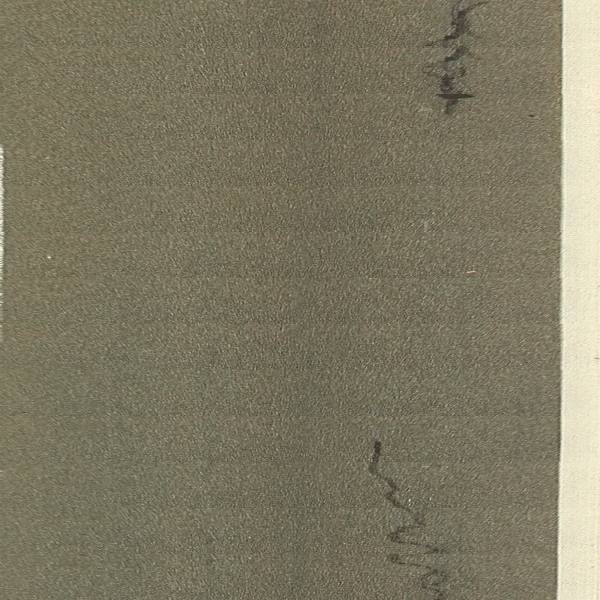road_damage: (366, 439, 459, 600), (430, 1, 488, 118)
